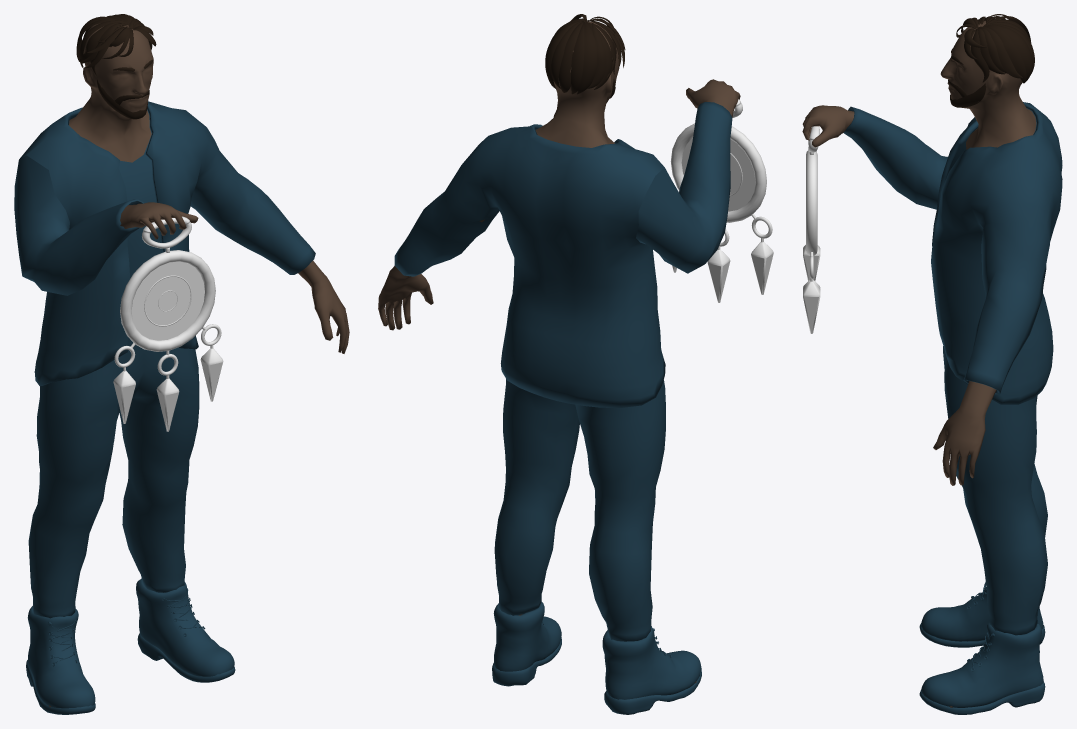
File: Jim 1.fbx
The picture shows the model from 3 angles, left to right: view 1: azimuth 30°, elevation 25°; view 2: azimuth 150°, elevation 25°; view 3: azimuth 270°, elevation 25°; orthographic projection.
Parts seen in each view (by area): view 1: Clothing.001, Jim.001, Arm, Catcher, Glass; view 2: Clothing.001, Arm, Jim.001, Catcher, Glass; view 3: Clothing.001, Jim.001, Arm, Catcher.
Boxes of the visible parts, x1,y1,x2,y2 form: Clothing.001: (20, 101, 315, 714); Jim.001: (49, 14, 349, 706); Arm: (14, 155, 198, 295); Catcher: (113, 216, 223, 431); Glass: (131, 261, 204, 340); Clothing.001: (394, 124, 701, 714); Arm: (636, 79, 740, 273); Jim.001: (378, 14, 696, 683); Catcher: (670, 89, 773, 302); Glass: (681, 138, 755, 211); Clothing.001: (849, 102, 1062, 714); Jim.001: (933, 14, 1036, 707); Arm: (802, 105, 947, 209); Catcher: (803, 126, 820, 333).
Bounding box in the file's own units: 0.9847 × 1.9 × 0.6854.
